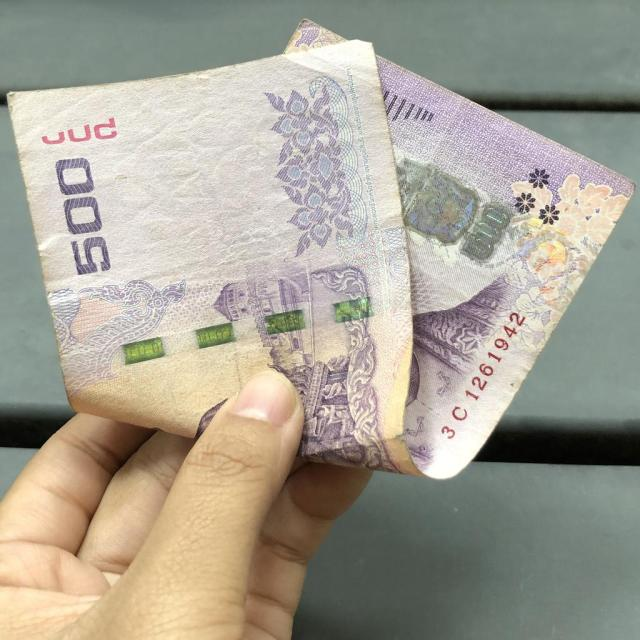THAI500: (9, 21, 634, 478)
